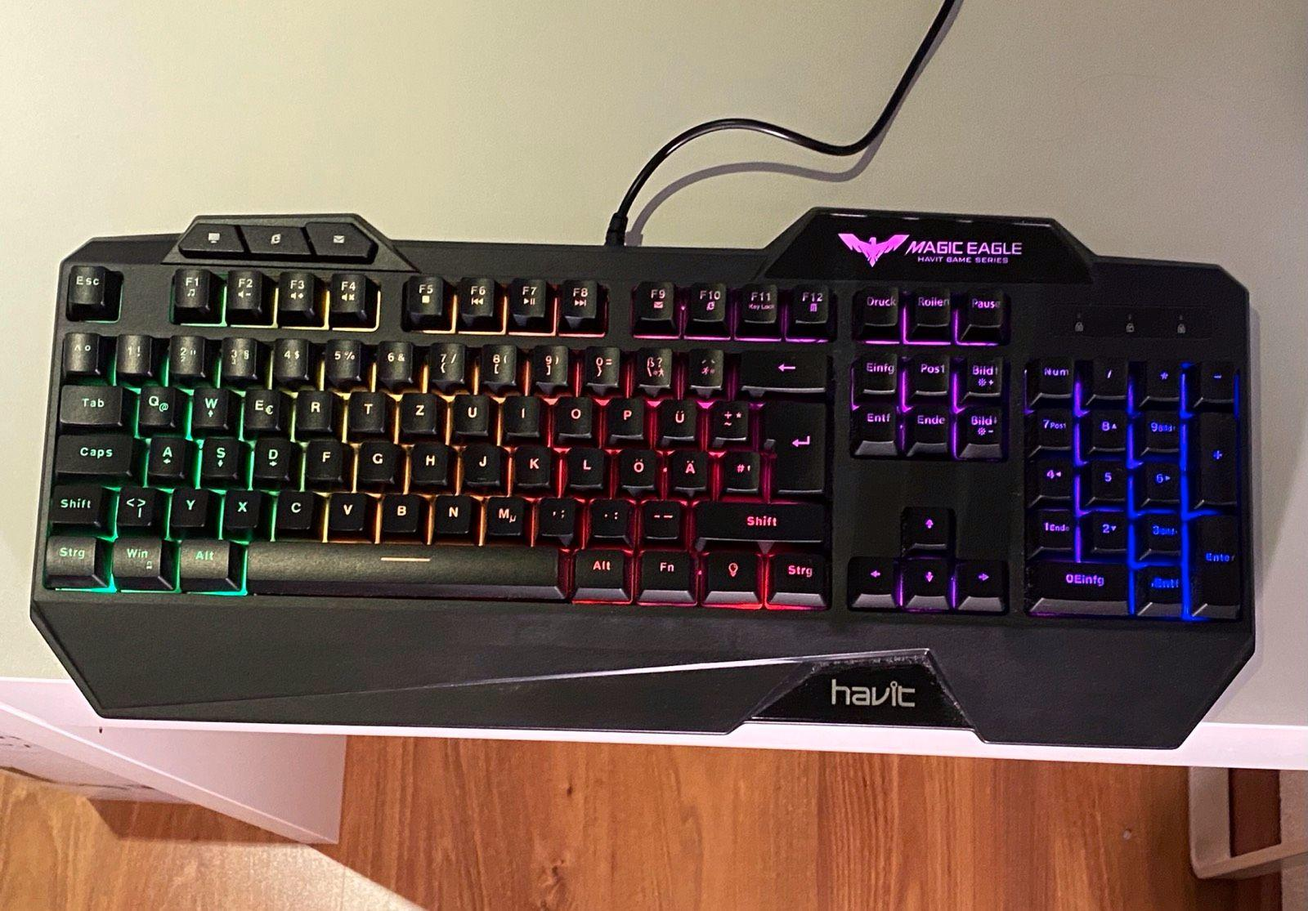0: (581, 342, 620, 386)
1: (114, 329, 150, 373)
2: (166, 331, 202, 373)
3: (218, 332, 255, 377)
4: (271, 333, 307, 377)
5: (322, 333, 361, 381)
6: (374, 335, 413, 381)
7: (425, 337, 464, 382)
8: (477, 339, 515, 384)
9: (528, 339, 568, 384)
a: (145, 433, 184, 476)
accent: (684, 344, 723, 386)
ae: (666, 446, 707, 489)
alt-left: (175, 537, 230, 582)
altgr-right: (571, 546, 626, 590)
b: (377, 490, 421, 534)
c: (272, 487, 314, 530)
caret: (63, 328, 99, 370)
comma: (536, 493, 575, 534)
d: (251, 434, 290, 480)
del: (735, 343, 825, 388)
e: (240, 383, 279, 428)
enter: (759, 396, 825, 491)
f: (303, 436, 341, 480)
g: (355, 437, 396, 481)
h: (409, 439, 447, 482)
hash: (718, 447, 759, 489)
i: (499, 391, 540, 432)
j: (461, 441, 500, 483)
k: (511, 442, 550, 484)
keyboard: (25, 230, 1265, 633)
l: (564, 444, 602, 485)
less: (113, 483, 155, 527)
m: (482, 492, 525, 536)
minus: (639, 496, 681, 537)
n: (430, 491, 473, 534)
o: (552, 394, 593, 435)
oe: (617, 446, 656, 486)
p: (604, 395, 643, 435)
plus: (708, 396, 748, 438)
point: (589, 496, 629, 534)
q: (135, 382, 175, 426)
r: (293, 386, 331, 429)
s: (198, 434, 238, 479)
shift-left: (47, 480, 103, 525)
shift-lock: (52, 431, 133, 475)
shift-right: (692, 499, 826, 539)
space: (240, 538, 559, 593)
ss: (634, 345, 671, 386)
strg-left: (43, 534, 96, 578)
strg-right: (765, 548, 827, 601)
t: (345, 386, 384, 429)
tab: (57, 381, 122, 423)
u: (450, 390, 490, 433)
ue: (656, 396, 697, 438)
v: (325, 489, 366, 531)
w: (189, 383, 227, 426)
x: (220, 487, 260, 529)
y: (168, 485, 208, 527)
z: (397, 388, 437, 431)
